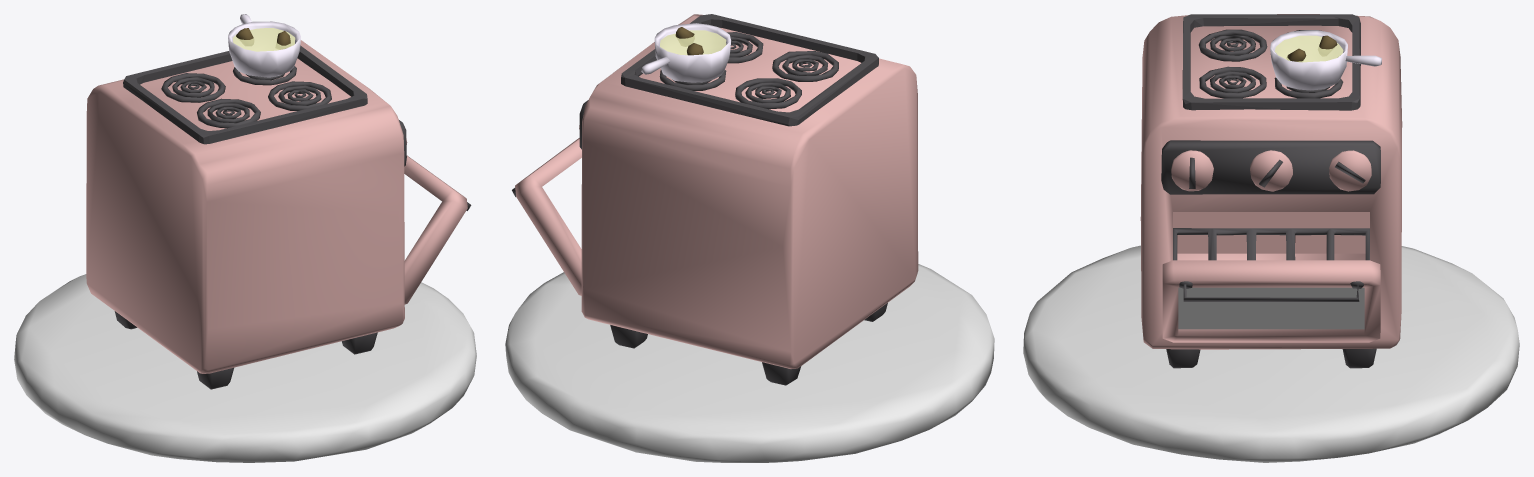
File: owen.glb
3 views of the same model, side by side, from view 1: azimuth 30°, elevation 25°; view 2: azimuth 150°, elevation 25°; view 3: azimuth 270°, elevation 25° (orthographic). The views are drawn at different scales.
Parts seen in each view (by area): view 1: owen; view 2: owen; view 3: owen.
Boxes of the visible parts, bbox=[...] form: owen: bbox=[14, 14, 476, 462]; owen: bbox=[505, 14, 994, 462]; owen: bbox=[1023, 14, 1519, 462].
Size of the model in its own units: 1.93 by 1.47 by 1.94.
